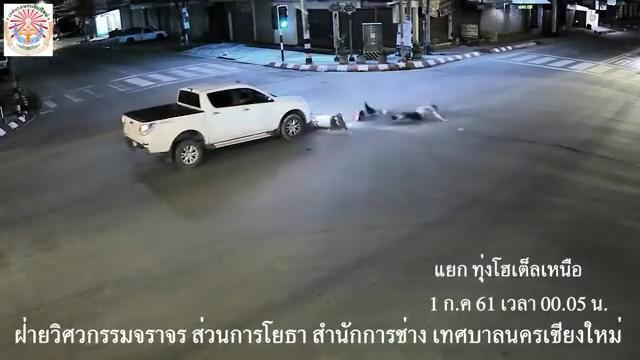accident: (391, 99, 448, 127)
